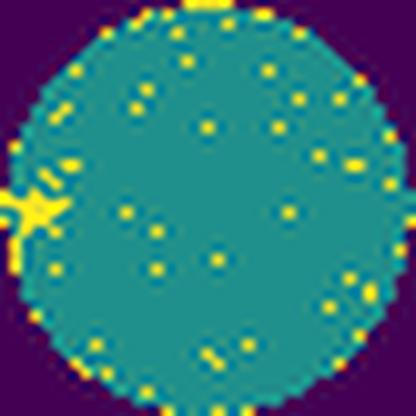Loc: (0, 184, 74, 276)
